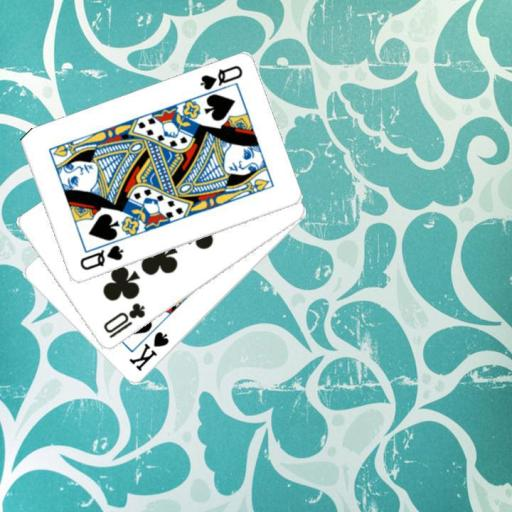10C: (100, 300, 147, 341)
KS: (126, 329, 171, 374)
QS: (76, 242, 125, 272), (196, 63, 244, 93)
